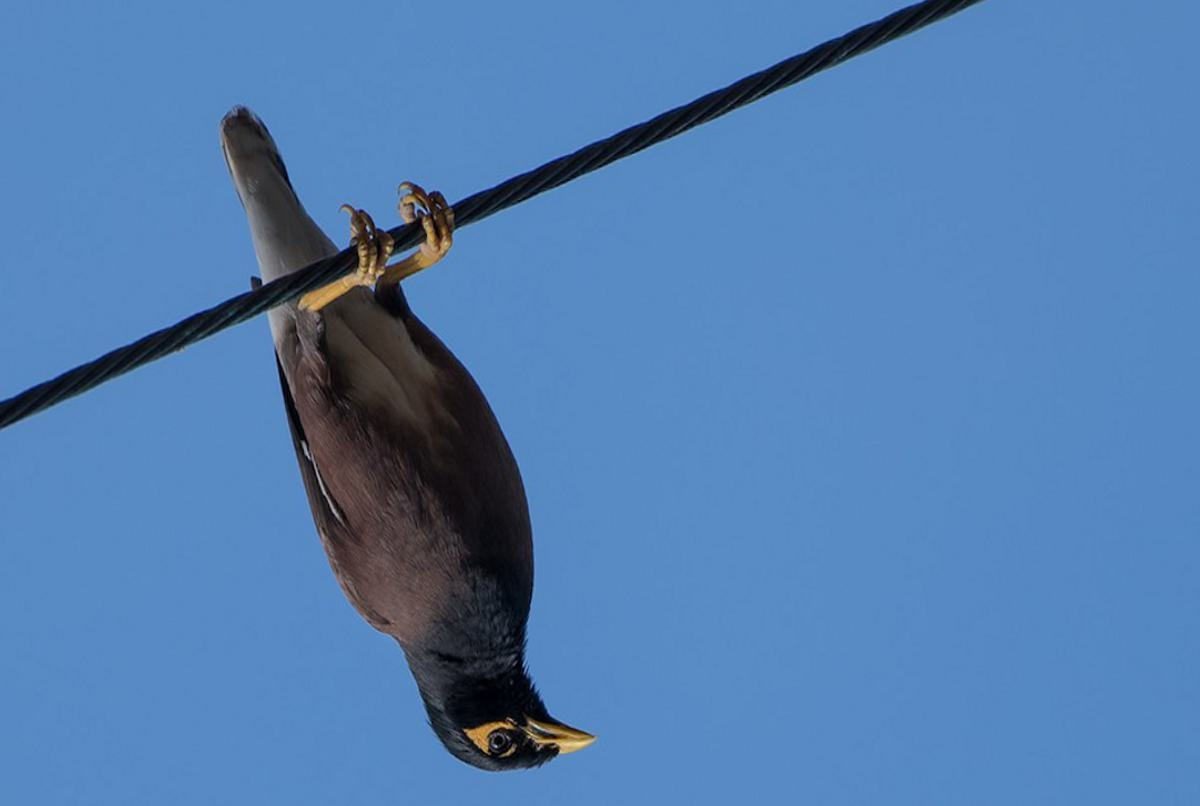myna: (228, 115, 601, 806)
